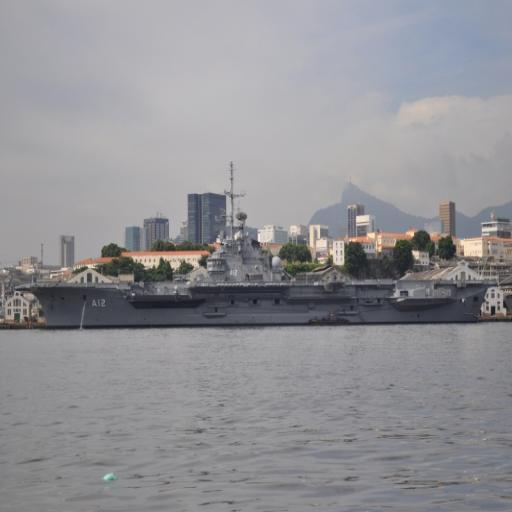Portanaves: (15, 153, 502, 332)
